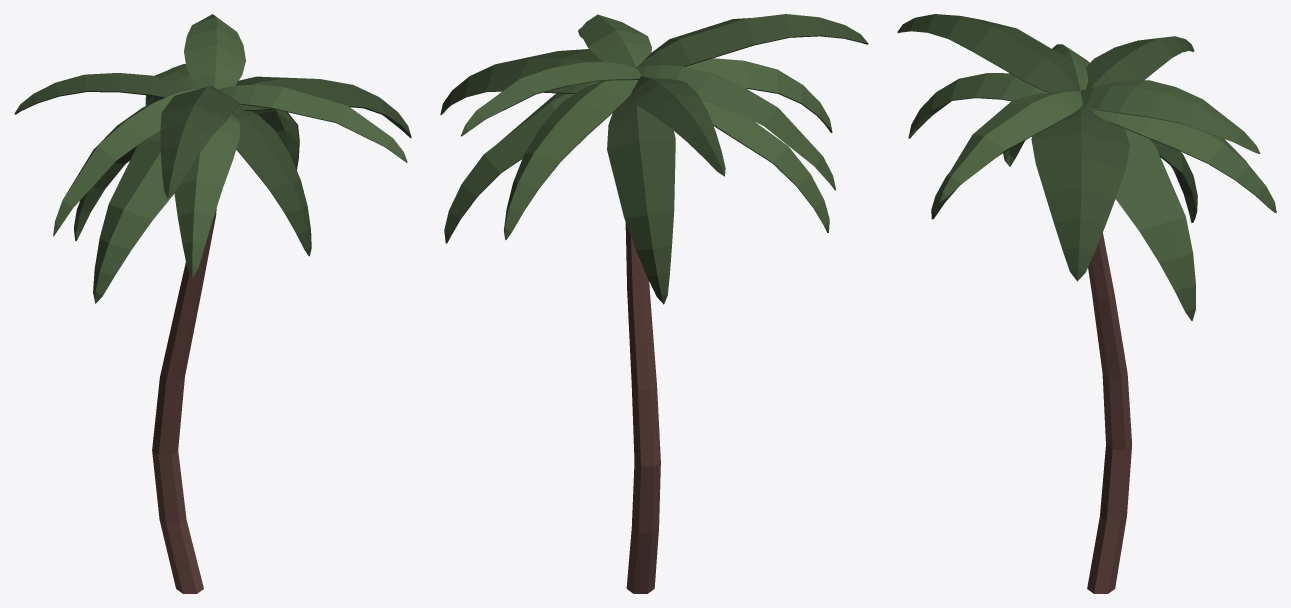
The model's file is PalmTree_3.glb.
The picture shows the model from 3 angles, left to right: view 1: azimuth 30°, elevation 25°; view 2: azimuth 150°, elevation 25°; view 3: azimuth 270°, elevation 25°; orthographic projection.
Visible parts, largest first — view 1: PalmTree_3_Cylinder.037; view 2: PalmTree_3_Cylinder.037; view 3: PalmTree_3_Cylinder.037.
Part boxes in pixels (x1,y1,x2,y2): PalmTree_3_Cylinder.037: (14, 14, 411, 593); PalmTree_3_Cylinder.037: (440, 14, 868, 593); PalmTree_3_Cylinder.037: (897, 14, 1276, 593).
Size of the model in its own units: 2.88 by 3.93 by 2.51.
